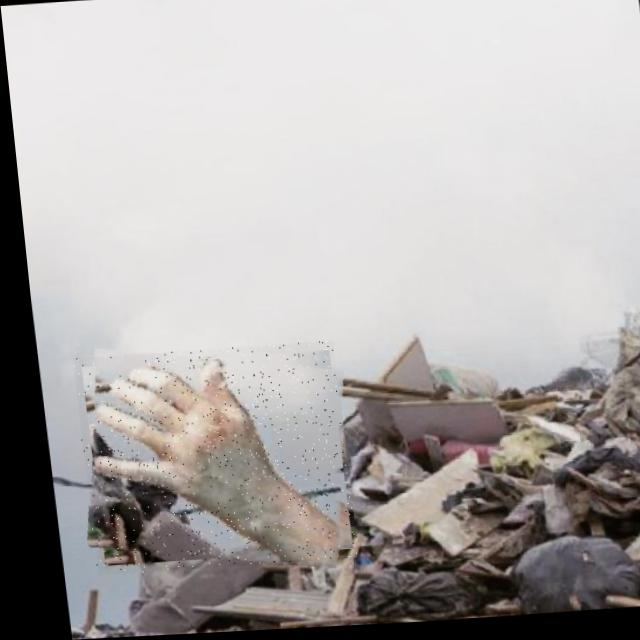Person in Rubble: (62, 343, 346, 576)
